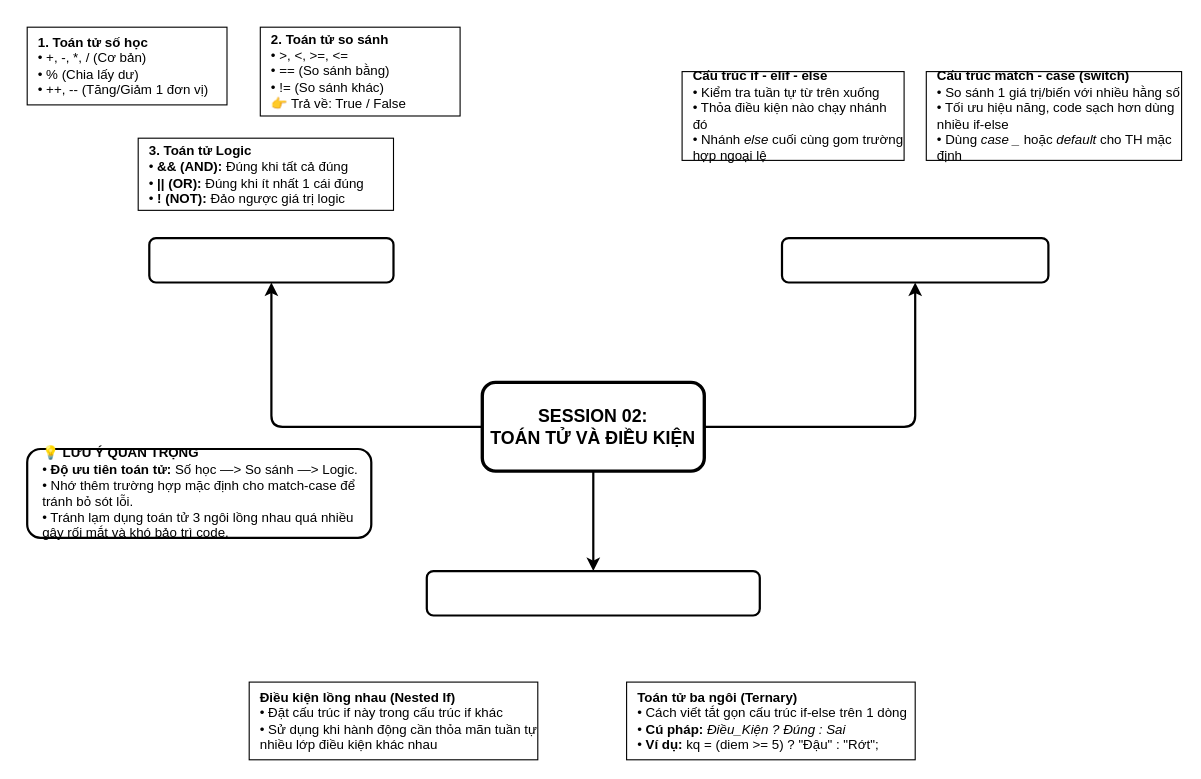
This 1201x779 diagram has some shape labels left out. The centre of each missing label's shape, as x and y in pixels:
"LESSON 01 - 03: TOÁN TỬ" belongs at [271,259].
"LESSON 04: ĐIỀU KIỆN ĐA NHÁNH" belongs at [914,259].
"LESSON 05: LỒNG NHAU & TOÁN TỬ 3 NGÔI" belongs at [592,592].
